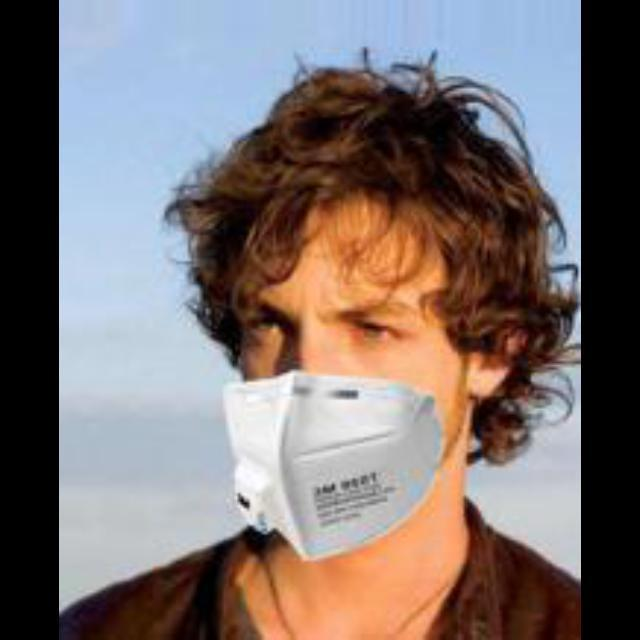suspicion: (204, 176, 492, 572)
